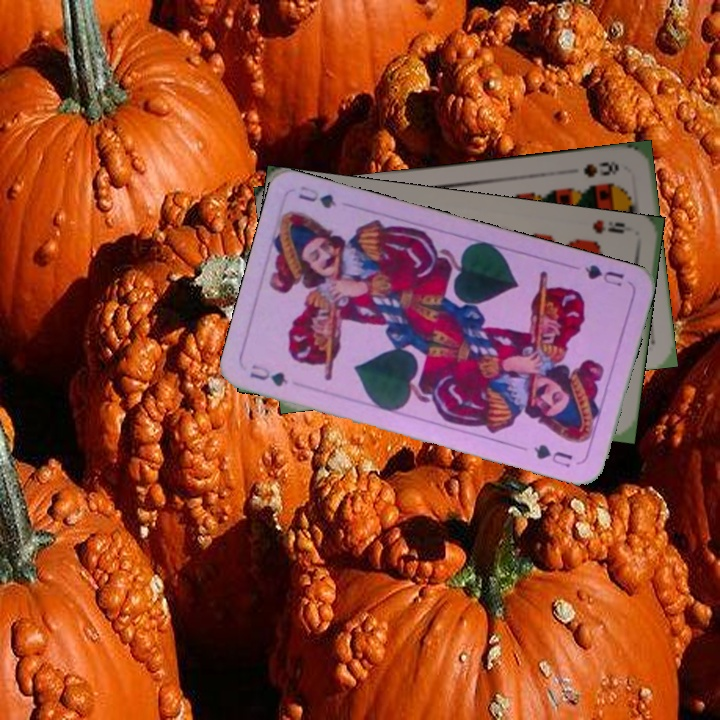GU: (581, 260, 627, 290), (245, 360, 291, 389)
H9: (588, 216, 628, 236)
S8: (579, 156, 622, 180)
